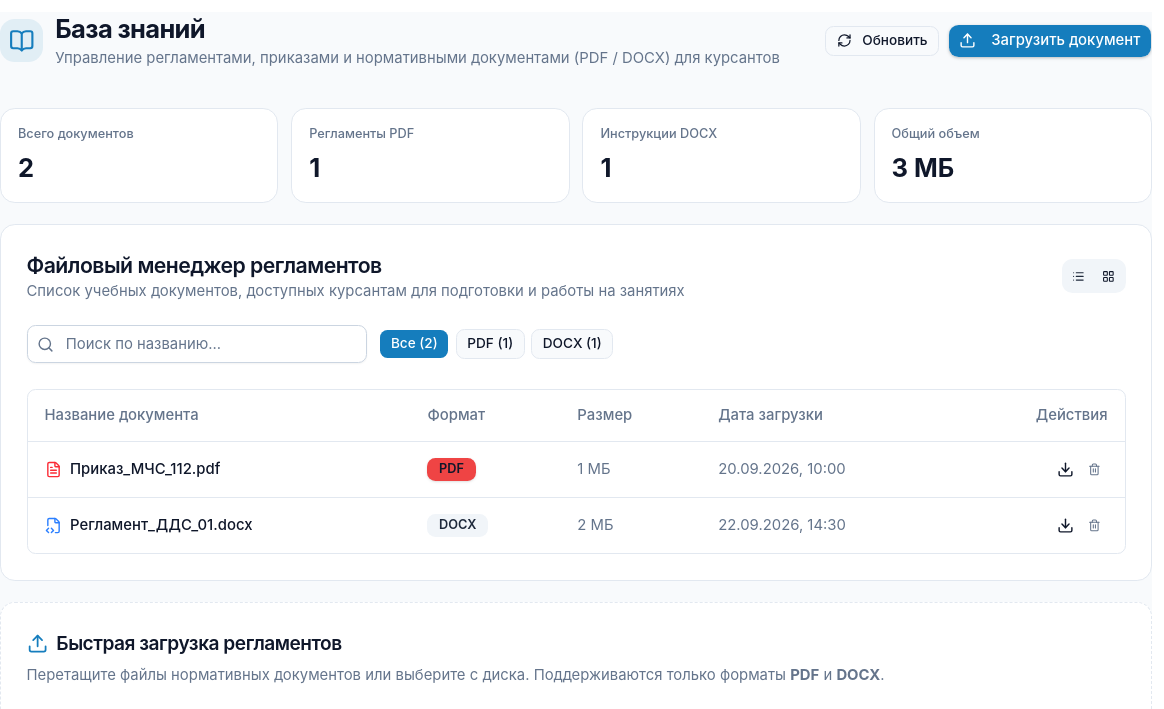
it: 27.6: База знаний › should filter documents by format buttons (PDF and DOCX)
The width and height of the screenshot is (1164, 709).
Expected: the text "Приказ_МЧС_112.pdf" is shown, [70,459,220,480]
Expected: the text "Регламент_ДДС_01.docx" is shown, [70,515,252,536]
Click the button "PDF (1)" at (490, 344), box [456,330,525,359]
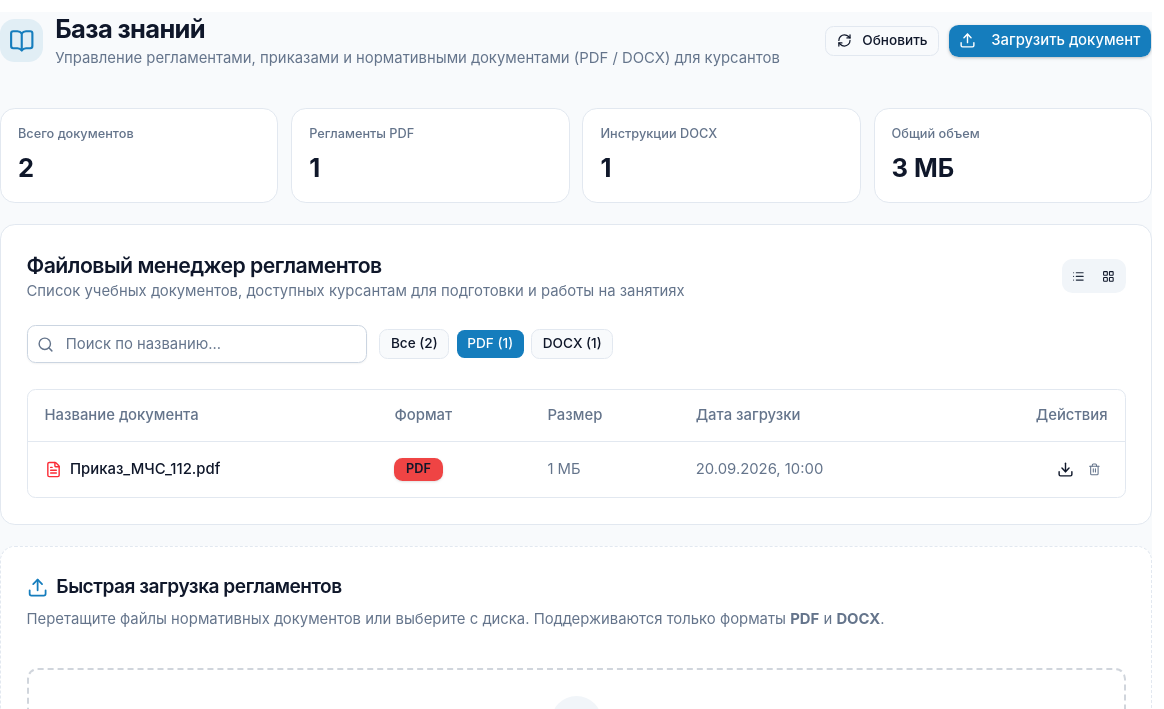
Expected: the text "Приказ_МЧС_112.pdf" is shown, [70,459,220,480]
Result: the text "Регламент_ДДС_01.docx" is gone
Click the button "DOCX (1)" at (572, 344), box [531,330,613,359]
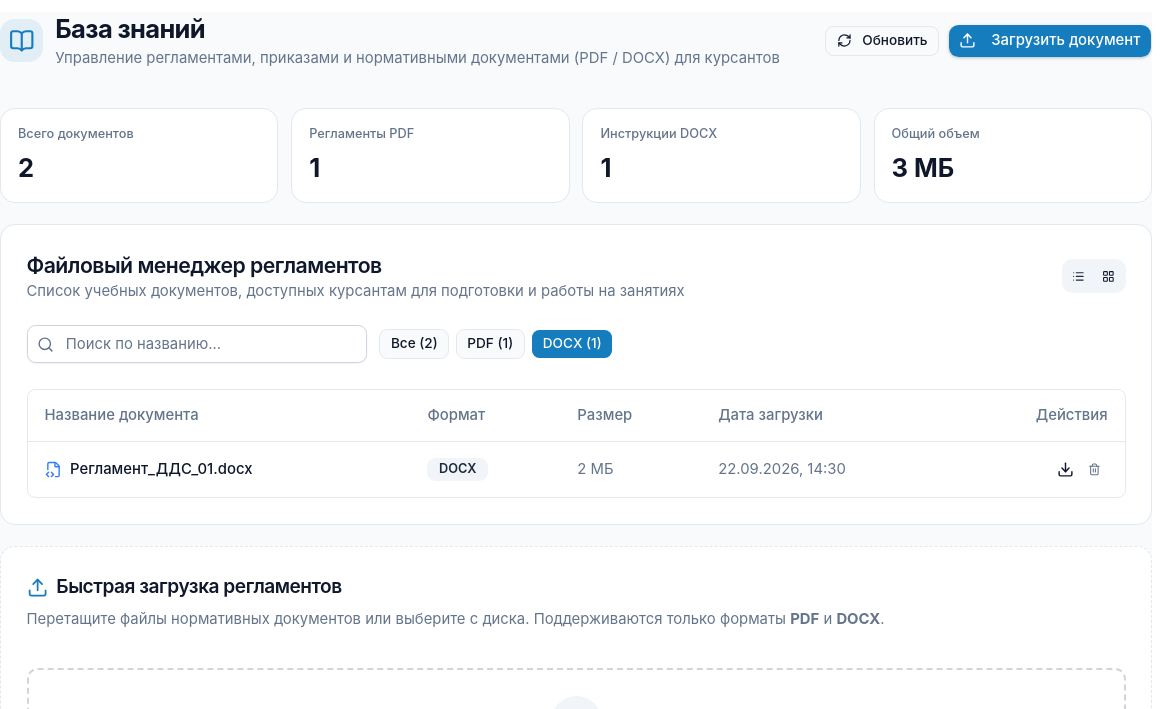
Result: the text "Приказ_МЧС_112.pdf" is gone
Result: the text "Регламент_ДДС_01.docx" is shown at [70,459,252,480]
